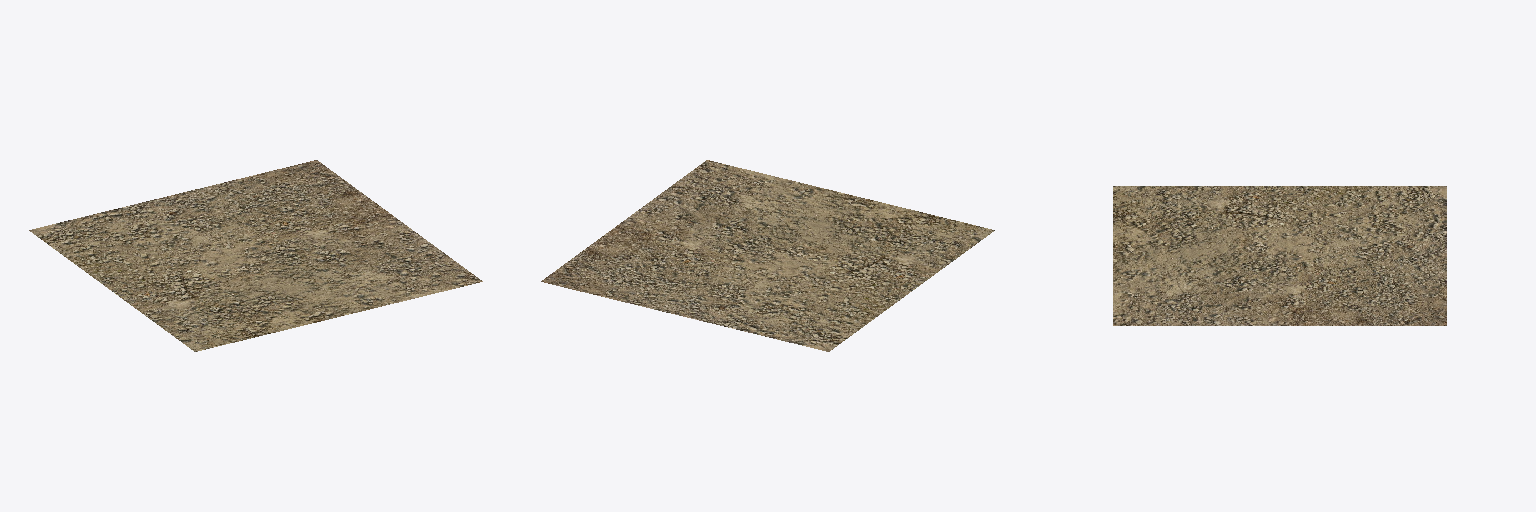
The picture shows the model from 3 angles: view 1: azimuth 30°, elevation 25°; view 2: azimuth 150°, elevation 25°; view 3: azimuth 270°, elevation 25°; orthographic projection.
Parts seen in each view (by area): view 1: Plane; view 2: Plane; view 3: Plane.
Boxes of the visible parts, box(x1,y1,x2,y2) form: Plane: box(29, 160, 482, 351); Plane: box(541, 160, 994, 351); Plane: box(1113, 186, 1446, 325).
Bounding box in the file's own units: 1 × 0 × 1.
Materials: 1 (1 with a texture image).